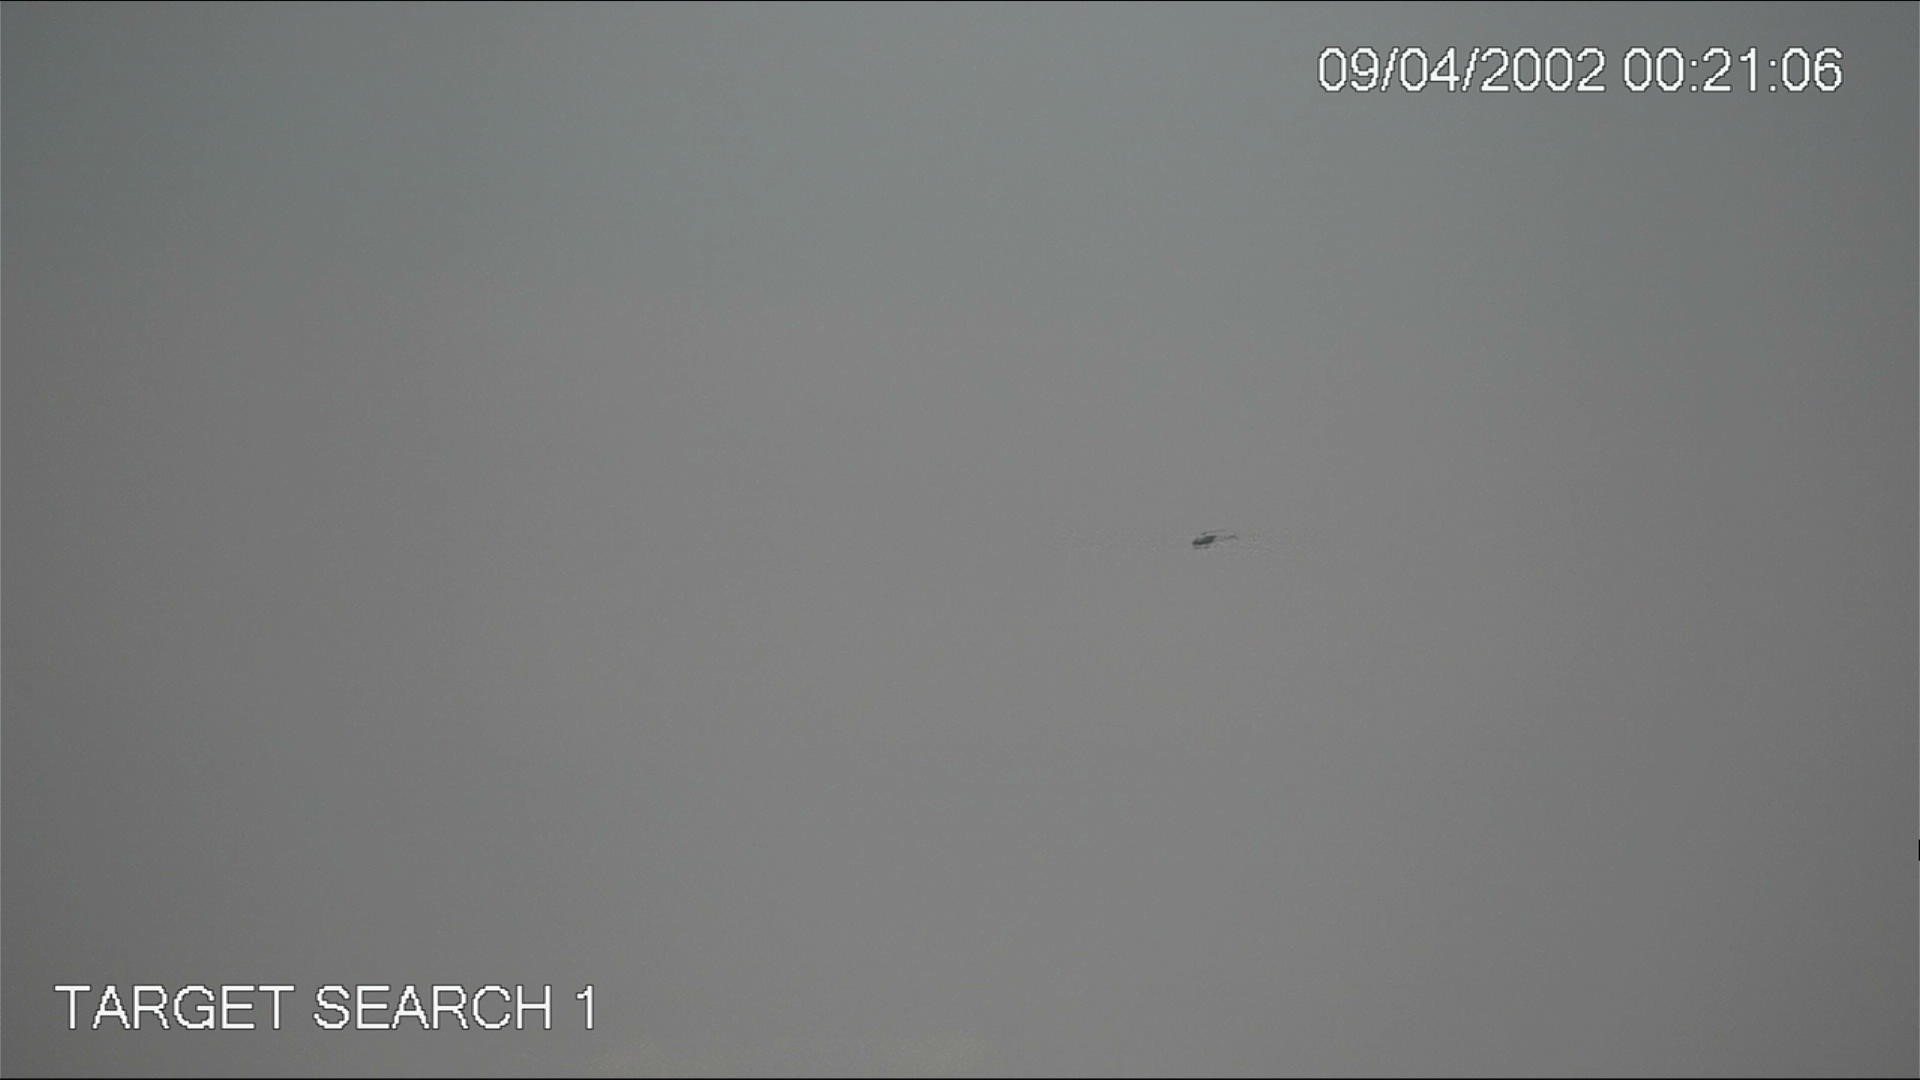SU_30: (1193, 529, 1215, 546)
